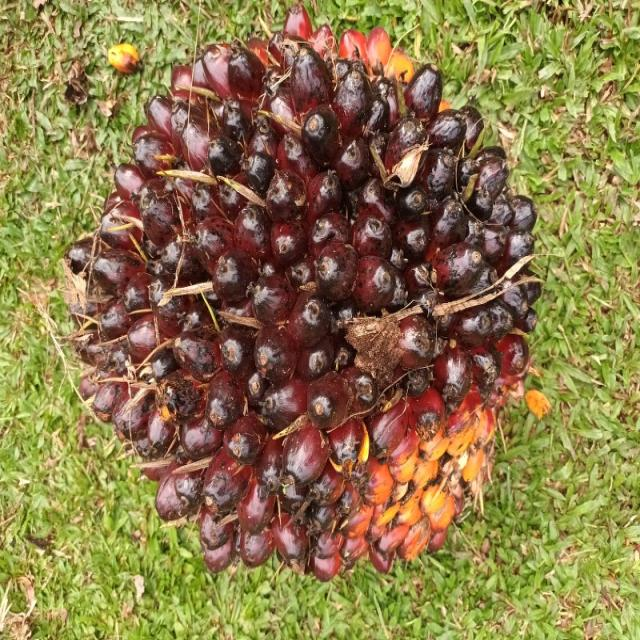fraksi 1: (48, 77, 466, 640)
